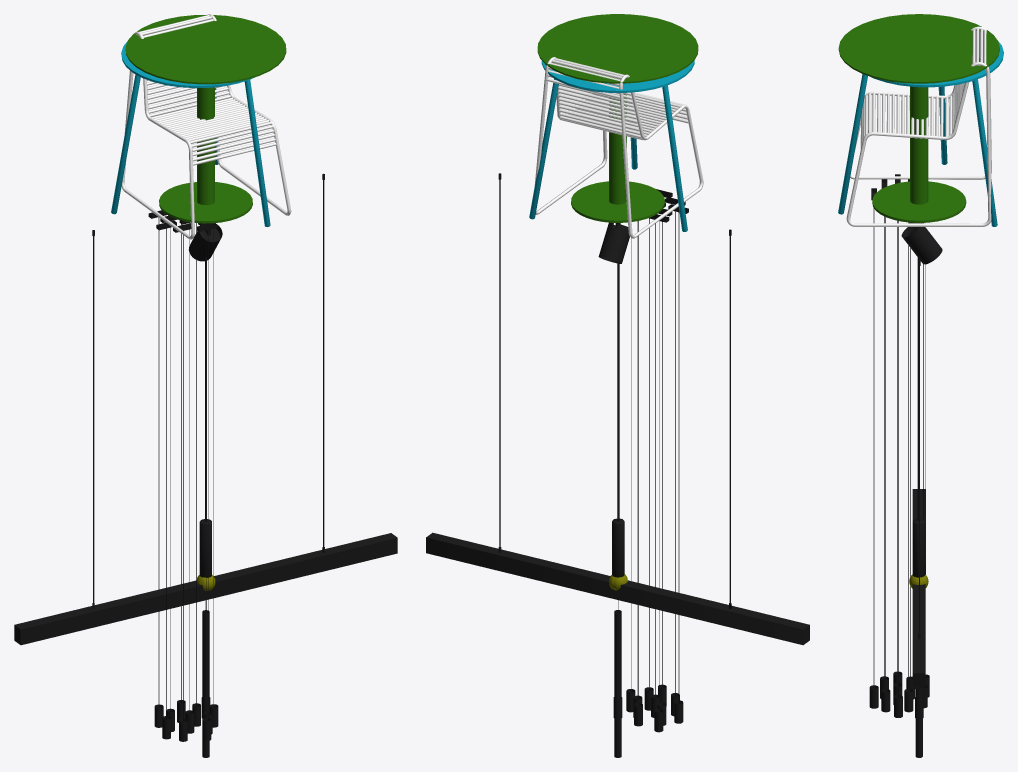
File: Caffee-Stuff.FBX
The picture shows the model from 3 angles, left to right: view 1: azimuth 30°, elevation 25°; view 2: azimuth 150°, elevation 25°; view 3: azimuth 270°, elevation 25°; orthographic projection.
Visible parts, largest first — view 1: Table, Led-Line, Chair, Lamps001, Table-2, Lamp, Lamp-3, Led-System; view 2: Table, Led-Line, Chair, Lamps001, Table-2, Lamp, Lamp-3, Led-System; view 3: Table, Chair, Lamps001, Table-2, Led-Line, Lamp, Led-System, Lamp-3.
Part boxes in pixels (x1,y1,x2,y2): Table: (125,14,286,223); Led-Line: (14,173,397,645); Chair: (121,14,291,239); Lamps001: (148,210,218,741); Table-2: (111,41,270,226); Lamp: (197,230,215,590); Lamp-3: (202,610,209,757); Led-System: (188,225,222,261); Table: (537,14,698,222); Led-Line: (426,173,809,645); Chair: (534,57,703,238); Lamps001: (613,189,688,732); Table-2: (529,60,694,231); Lamp: (609,223,627,590); Lamp-3: (614,610,621,757); Led-System: (598,222,629,263); Table: (838,14,999,222); Chair: (846,26,991,226); Lamps001: (869,174,929,719); Table-2: (838,40,1003,226); Led-Line: (912,259,925,688); Lamp: (909,227,928,588); Led-System: (901,222,942,264); Lamp-3: (915,689,922,757).
Bounding box in the file's own units: 2.24 × 4.04 × 0.8521.
